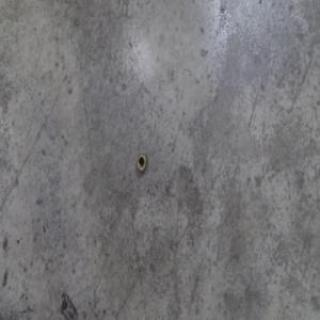Nuttrack_idkeyframe: (135, 150, 148, 172)
